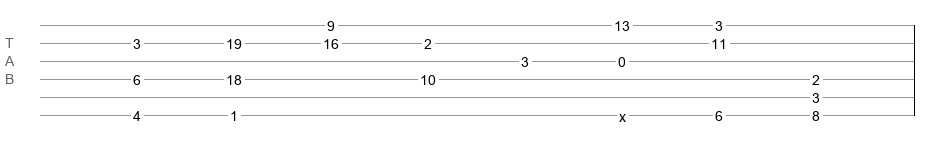0: (618, 54, 626, 64)
1: (230, 108, 238, 118)
10: (420, 72, 436, 82)
11: (711, 36, 727, 46)
13: (614, 18, 630, 28)
16: (323, 36, 339, 46)
18: (226, 72, 242, 82)
19: (226, 36, 242, 46)
2: (424, 36, 432, 46), (812, 72, 820, 82)
3: (133, 36, 141, 46), (521, 54, 529, 64), (715, 18, 723, 28), (812, 90, 820, 100)
4: (133, 108, 141, 118)
6: (133, 72, 141, 82), (715, 108, 723, 118)
8: (812, 108, 820, 118)
9: (327, 18, 335, 28)
x: (619, 109, 626, 117)
